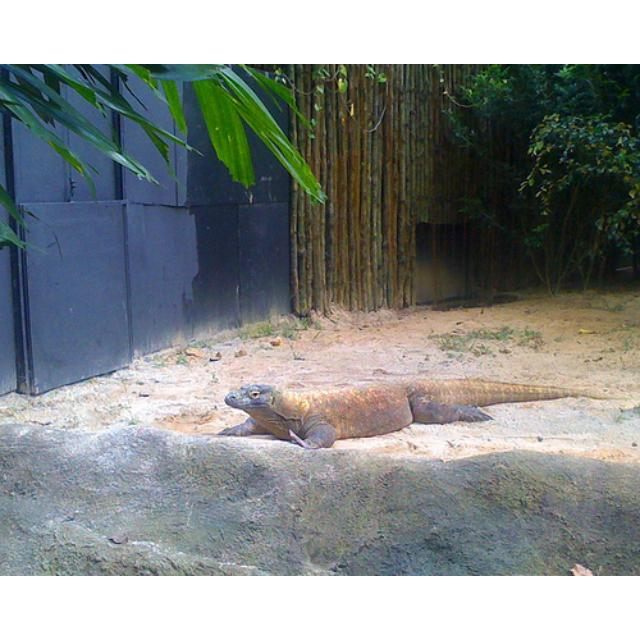KomodoDragon: (219, 382, 629, 463)
